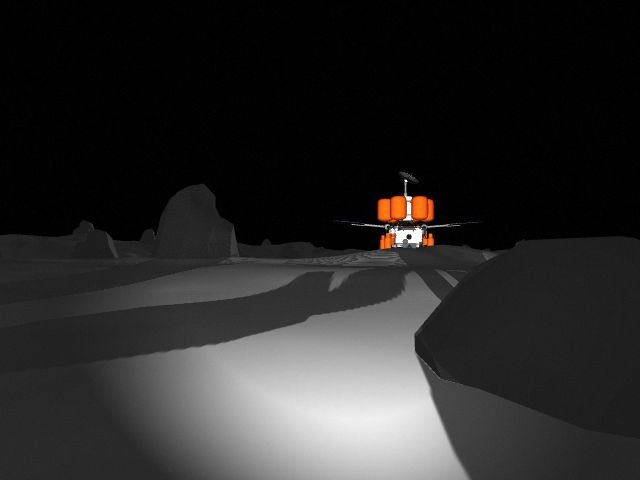homebase: (328, 169, 478, 260)
